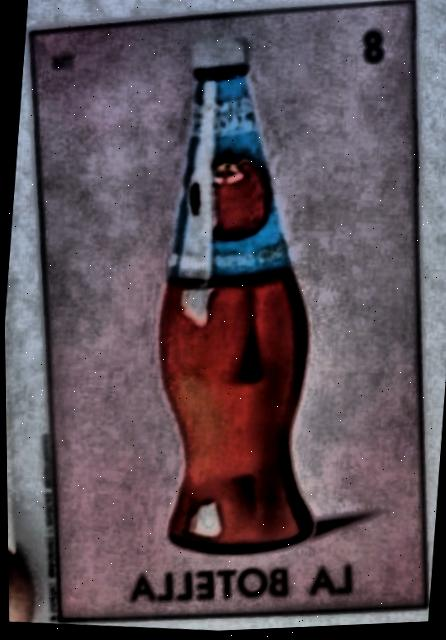La Botella: (28, 3, 426, 621)
